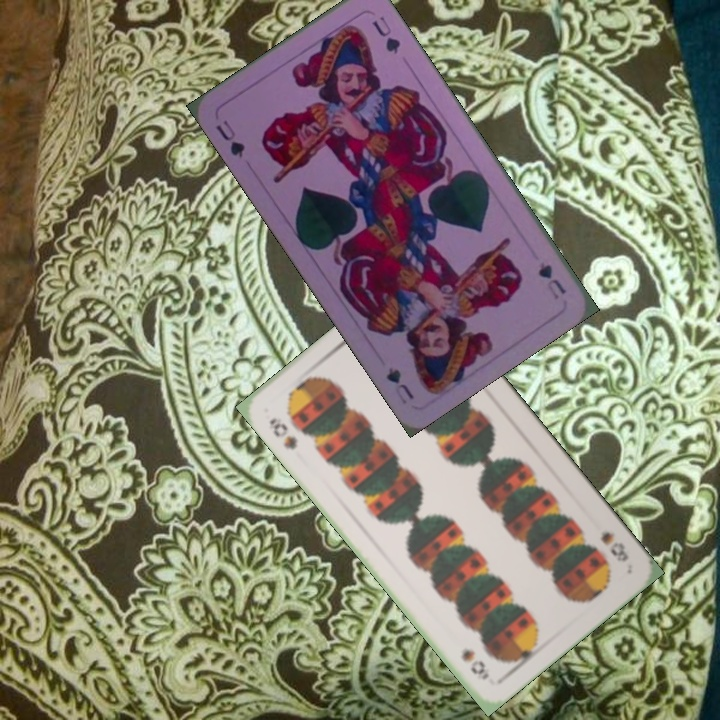GU: (211, 115, 248, 161), (533, 258, 569, 302)
S8: (264, 413, 301, 452), (596, 528, 631, 565)
